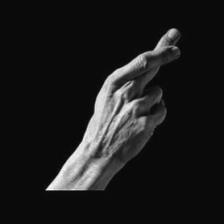five: (88, 24, 182, 174)
